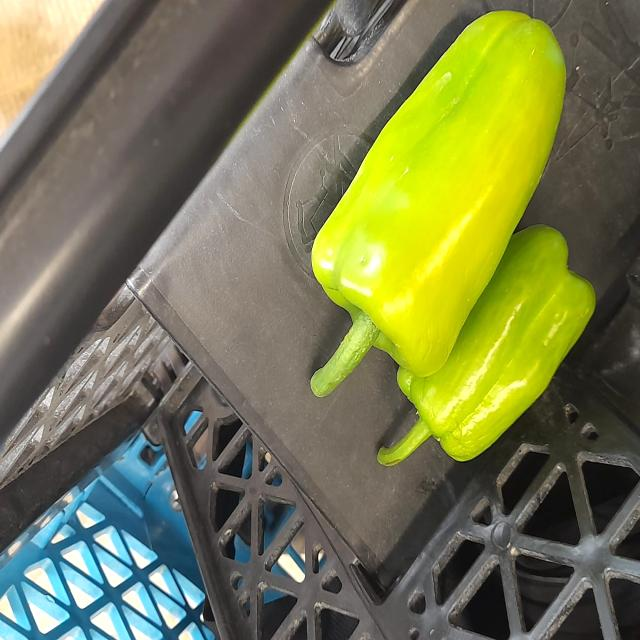bell pepper: (302, 12, 582, 398), (382, 236, 620, 484)
